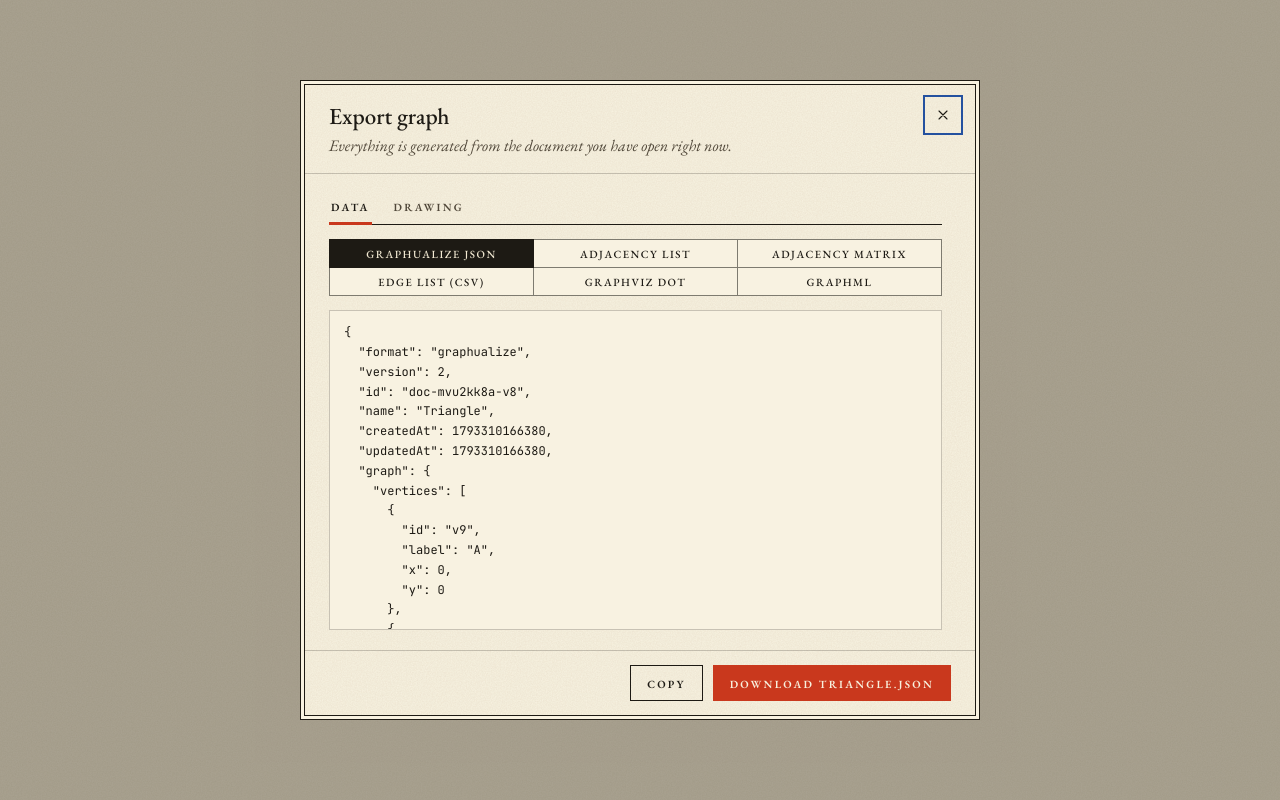
Test: Export dialog, TikZ › wraps the picture in a document when asked
Click the button "Drawing".
click(429, 208)  # box [392,192,466,225]
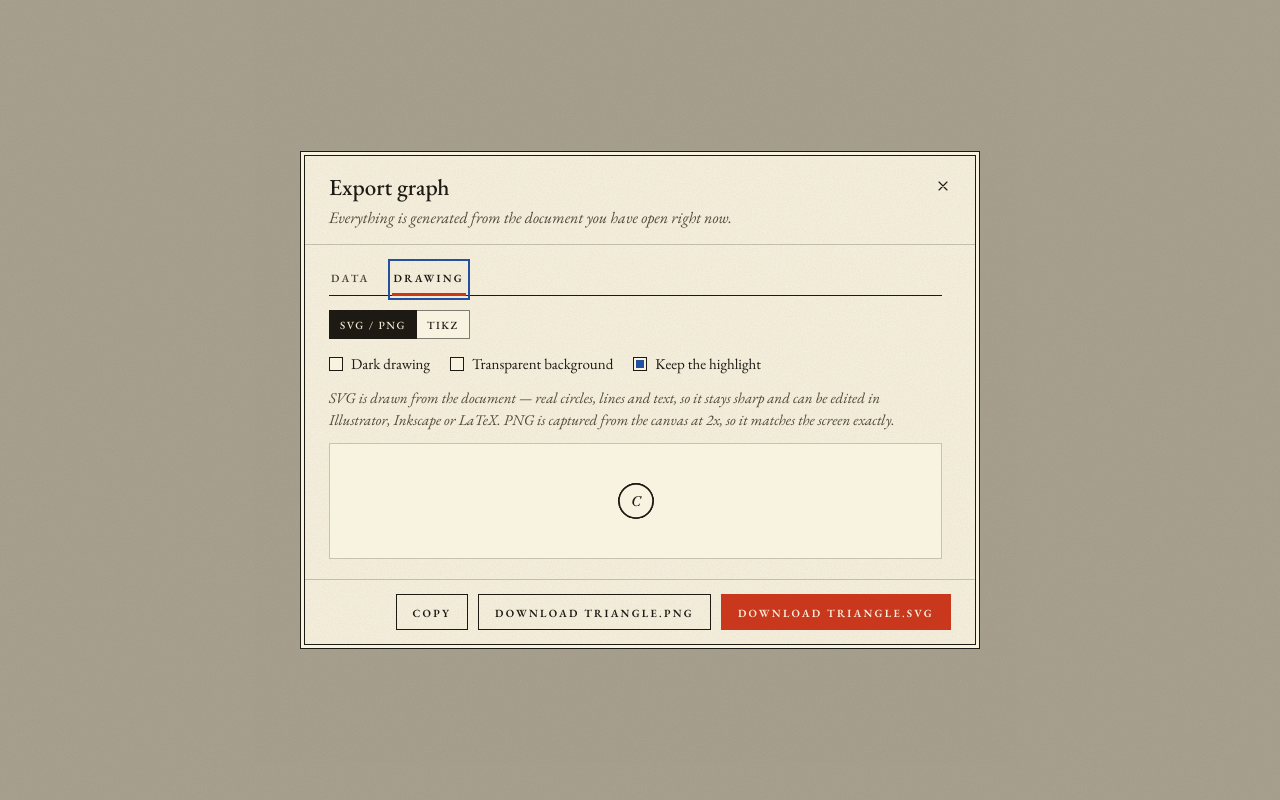
Click the button "TikZ".
click(443, 325)  # box [416,310,470,340]
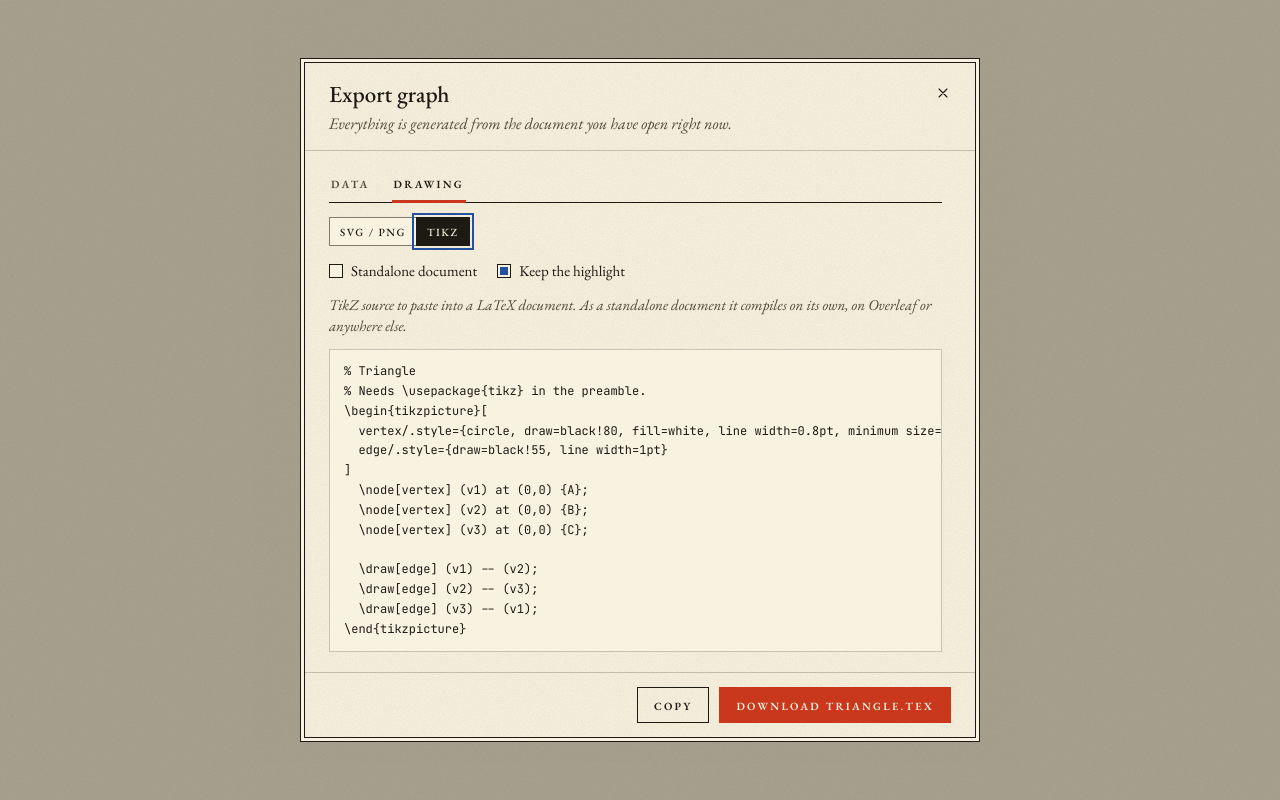
Click the checkbox labelled "Standalone document".
click(336, 271)  # box [329,264,343,278]
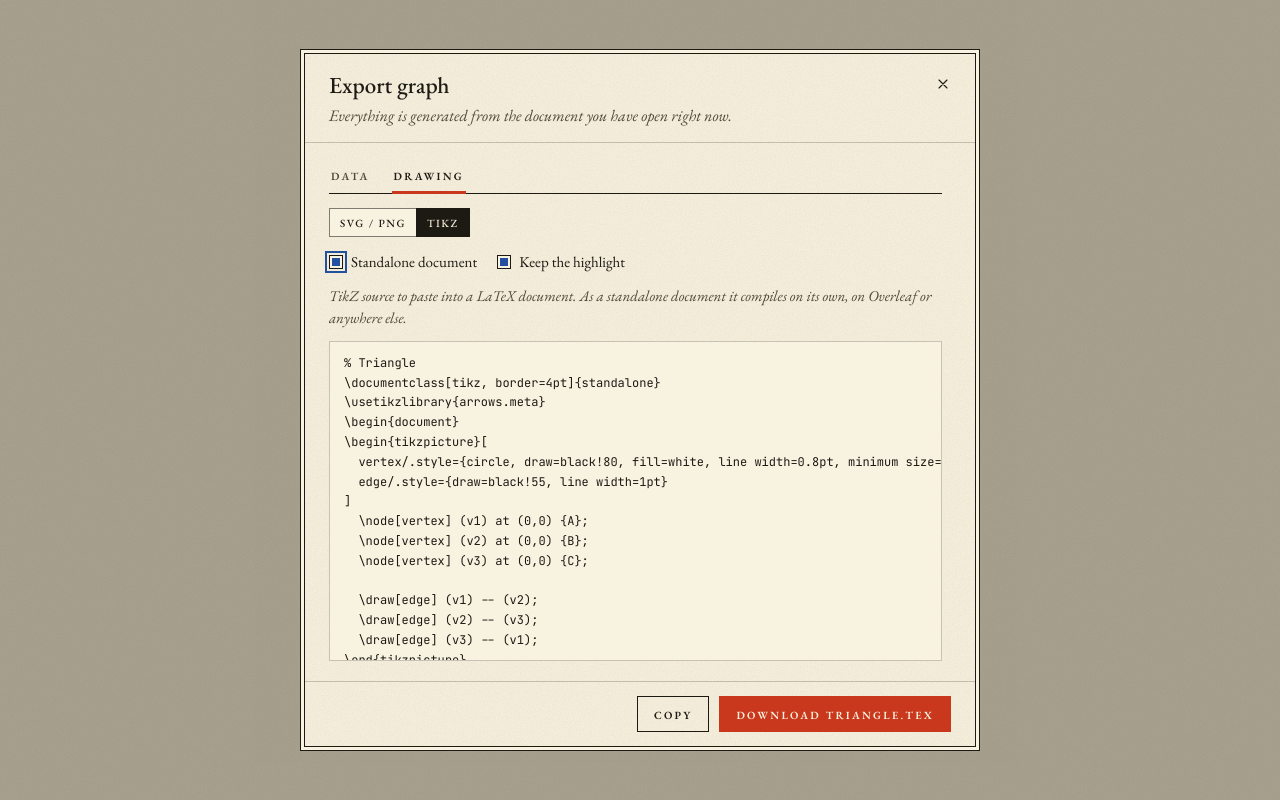
Expected: the text "\\documentclass[tikz, border=4pt]{standalone}" is shown, [344,355,975,681]
Expected: the text "\\end{document}" is shown, [344,355,975,681]
